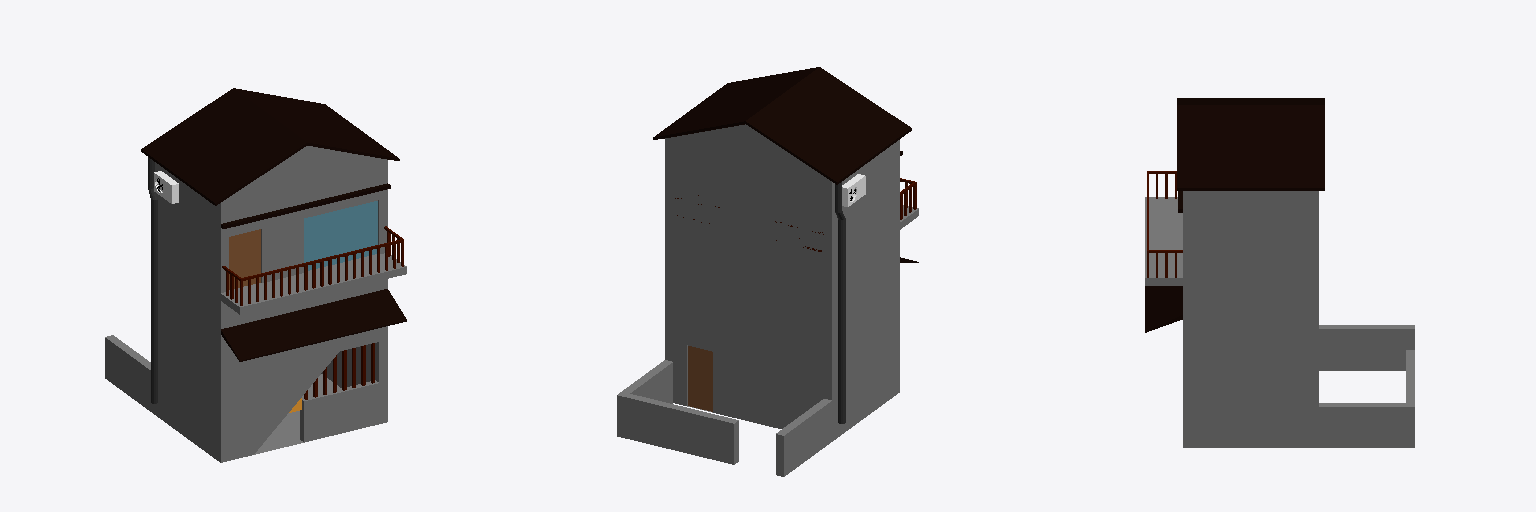
The model's file is building2.obj.
3 views of the same model, side by side, from view 1: azimuth 30°, elevation 25°; view 2: azimuth 150°, elevation 25°; view 3: azimuth 270°, elevation 25° (orthographic).
Visible parts, largest first — view 1: Building_Cube.004; view 2: Building_Cube.004; view 3: Building_Cube.004.
Boxes of the visible parts, x1=… form: Building_Cube.004: x1=105, y1=88, x2=406, y2=462; Building_Cube.004: x1=617, y1=67, x2=918, y2=476; Building_Cube.004: x1=1145, y1=98, x2=1414, y2=447.
Bounding box in the file's own units: 5.1 × 8 × 6.48.